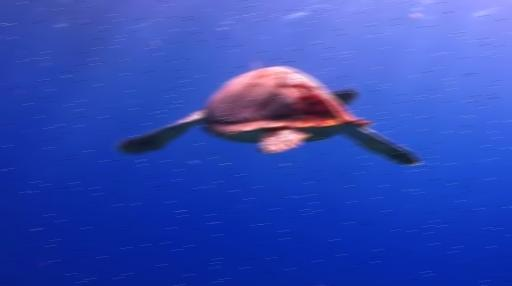Fish: (116, 66, 419, 165)
